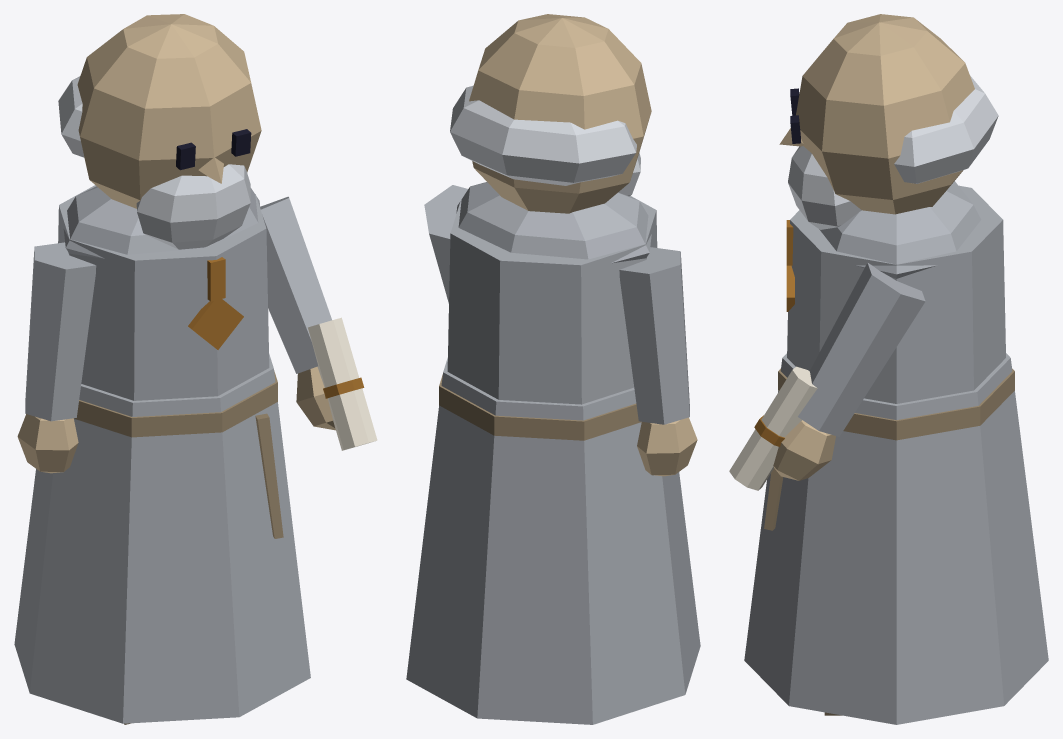
The model's file is aldous_warden.glb.
3 renders of one model, left to right at view 1: azimuth 30°, elevation 25°; view 2: azimuth 150°, elevation 25°; view 3: azimuth 270°, elevation 25°, orthographic.
Parts seen in each view (by area): view 1: Torso, Head, ArmL, ArmR; view 2: Torso, Head, ArmR, ArmL; view 3: Torso, Head, ArmL.
Boxes of the visible parts, x1,y1,x2,y2 form: Torso: (14, 185, 310, 723); Head: (58, 14, 261, 249); ArmL: (260, 196, 377, 450); ArmR: (17, 242, 96, 473); Torso: (406, 182, 700, 724); Head: (450, 14, 651, 213); ArmR: (619, 247, 697, 476); ArmL: (424, 185, 467, 303); Torso: (744, 181, 1048, 724); Head: (779, 14, 998, 229); ArmL: (729, 262, 925, 490).
Bounding box in the file's own units: 0.7592 × 1.71 × 0.7558.
